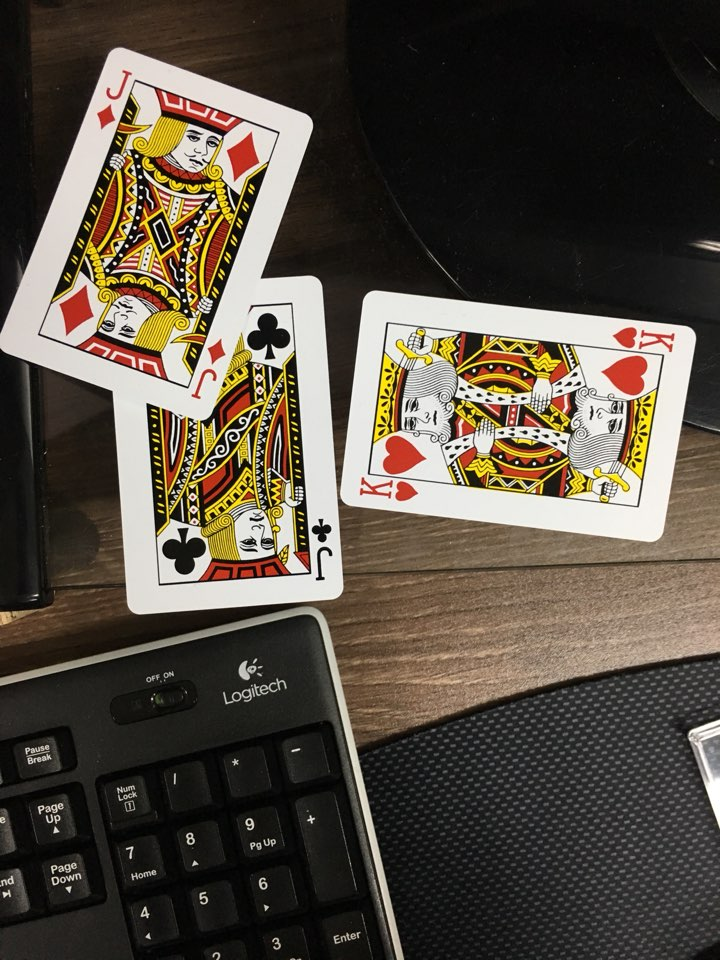jack: (1, 28, 353, 460), (89, 252, 364, 632)
king: (339, 264, 706, 559)
